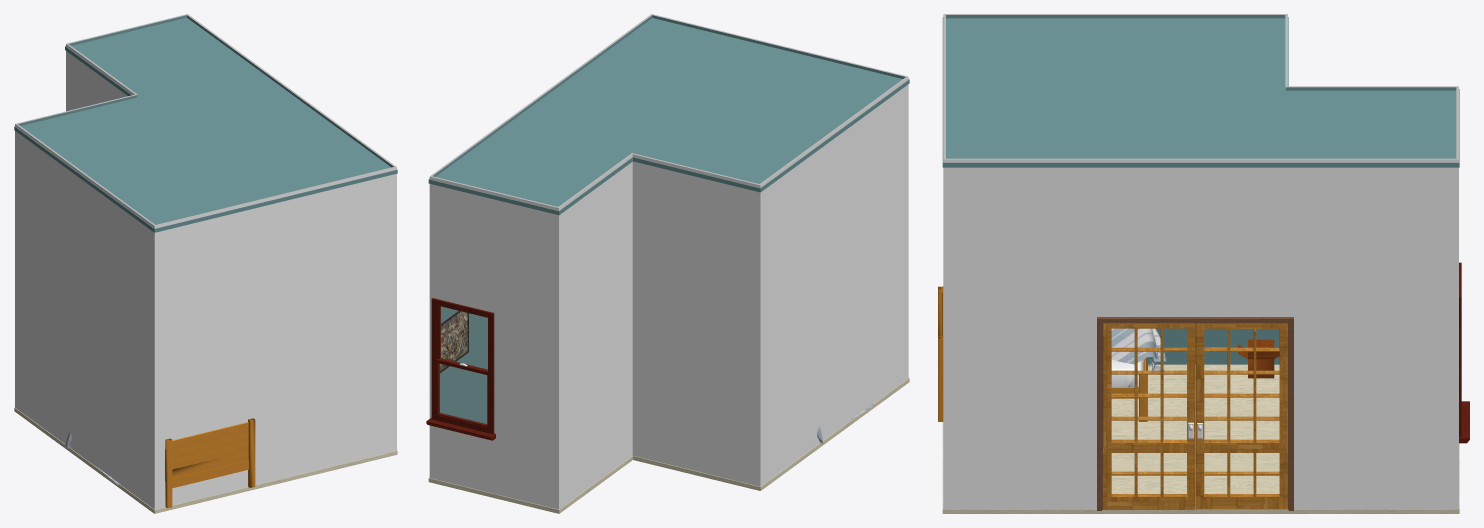
File: ProcTHOR-Train-104.glb
3 views of the same model, side by side, from view 1: azimuth 30°, elevation 25°; view 2: azimuth 150°, elevation 25°; view 3: azimuth 270°, elevation 25° (orthographic). The views are drawn at different scales.
Visible parts, largest first — view 1: WallInside#wall|exterior|0.00|5.07|3.38|5.07, Ceiling#room|2|c, WallInside#wall|exterior|3.38|1.69|3.38|5.07, Bed_2, WallInside#wall|exterior|1.69|0.00|1.69|1.69, Floor#room|2|f, WallInside#wall|2|0.00|0.00|0.00|5.07, WallInside#wall|exterior|0.00|0.00|0.00|5.07, WallInside#wall|2|1.69|1.69|3.38|1.69, WallInside#wall|2|0.00|0.00|1.69|0.00; view 2: Ceiling#room|2|c, WallInside#wall|exterior|3.38|1.69|3.38|5.07, WallInside#wall|exterior|1.69|1.69|3.38|1.69, WallInside#wall|exterior|0.00|0.00|1.69|0.00, WallInside#wall|exterior|1.69|0.00|1.69|1.69, WallInside#wall|2|0.00|0.00|0.00|5.07, Window_Hung_32x60, Floor#room|2|f, Wall_Decor_Painting_3, WallInside#wall|2|0.00|5.07|3.38|5.07; view 3: WallInside#wall|exterior|0.00|0.00|0.00|5.07, Ceiling#room|2|c, Floor#room|2|f, Doorway_Door_5a, Doorway_Door_5b, WallInside#wall|2|3.38|1.69|3.38|5.07, Bed_2, Doorway_Double_5, Box_27, Window_Hung_32x60, WallInside#wall|2|1.69|0.00|1.69|1.69, WallInside#wall|exterior|0.00|5.07|3.38|5.07.
Part boxes in pixels (<box>): WallInside#wall|exterior|0.00|5.07|3.38|5.07: <box>155,167,396,509</box>; Ceiling#room|2|c: <box>14,18,397,232</box>; WallInside#wall|exterior|3.38|1.69|3.38|5.07: <box>15,124,154,509</box>; Bed_2: <box>65,418,255,508</box>; WallInside#wall|exterior|1.69|0.00|1.69|1.69: <box>66,43,136,111</box>; Floor#room|2|f: <box>14,407,397,513</box>; WallInside#wall|2|0.00|0.00|0.00|5.07: <box>186,14,394,167</box>; WallInside#wall|exterior|0.00|0.00|0.00|5.07: <box>187,14,396,450</box>; WallInside#wall|2|1.69|1.69|3.38|1.69: <box>16,95,137,125</box>; WallInside#wall|2|0.00|0.00|1.69|0.00: <box>67,14,188,45</box>; Ceiling#room|2|c: <box>428,18,909,215</box>; WallInside#wall|exterior|3.38|1.69|3.38|5.07: <box>760,77,908,486</box>; WallInside#wall|exterior|1.69|1.69|3.38|1.69: <box>632,153,760,486</box>; WallInside#wall|exterior|0.00|0.00|1.69|0.00: <box>429,176,558,509</box>; WallInside#wall|exterior|1.69|0.00|1.69|1.69: <box>558,154,632,509</box>; WallInside#wall|2|0.00|0.00|0.00|5.07: <box>431,14,652,423</box>; Window_Hung_32x60: <box>426,298,495,440</box>; Floor#room|2|f: <box>428,378,909,513</box>; Wall_Decor_Painting_3: <box>440,311,468,372</box>; WallInside#wall|2|0.00|5.07|3.38|5.07: <box>651,14,906,78</box>; WallInside#wall|exterior|0.00|0.00|0.00|5.07: <box>943,159,1458,508</box>; Ceiling#room|2|c: <box>942,17,1459,167</box>; Floor#room|2|f: <box>942,364,1459,513</box>; Doorway_Door_5a: <box>1195,323,1287,509</box>; Doorway_Door_5b: <box>1103,323,1195,509</box>; WallInside#wall|2|3.38|1.69|3.38|5.07: <box>946,14,1287,364</box>; Bed_2: <box>938,286,1166,421</box>; Doorway_Double_5: <box>1097,317,1293,510</box>; Box_27: <box>1238,339,1279,378</box>; Window_Hung_32x60: <box>1459,262,1469,443</box>; WallInside#wall|2|1.69|0.00|1.69|1.69: <box>1285,86,1458,90</box>; WallInside#wall|exterior|0.00|5.07|3.38|5.07: <box>943,14,944,508</box>.
Size of what is drawn, in the model's own units: 3.53 by 3.86 by 5.26.
Materials: 67 (21 with a texture image).
